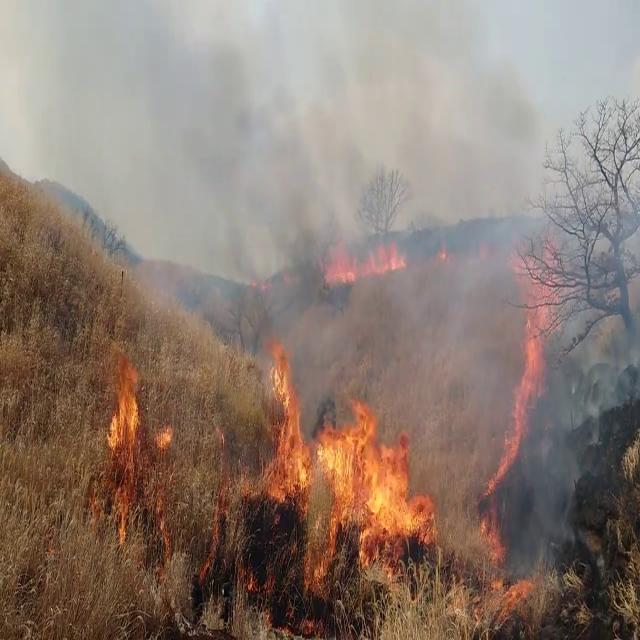Fire: (234, 331, 436, 574), (476, 448, 538, 612), (504, 270, 554, 470), (320, 233, 408, 289), (106, 368, 143, 459)
Smoke: (91, 0, 332, 303)
